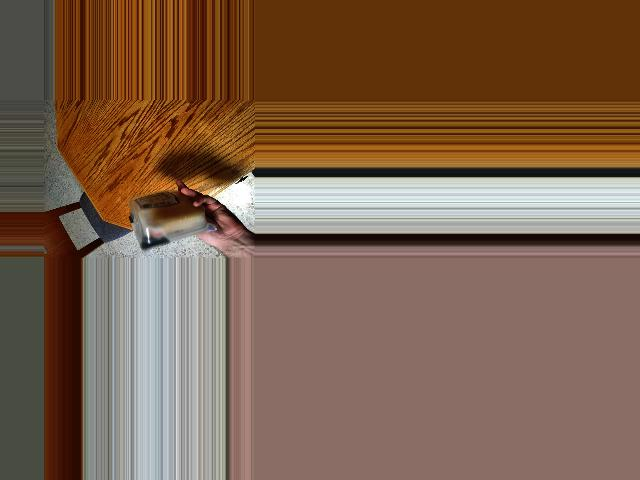cheese: (126, 187, 208, 248)
